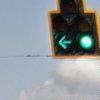Traffic light: (39, 5, 100, 53)
